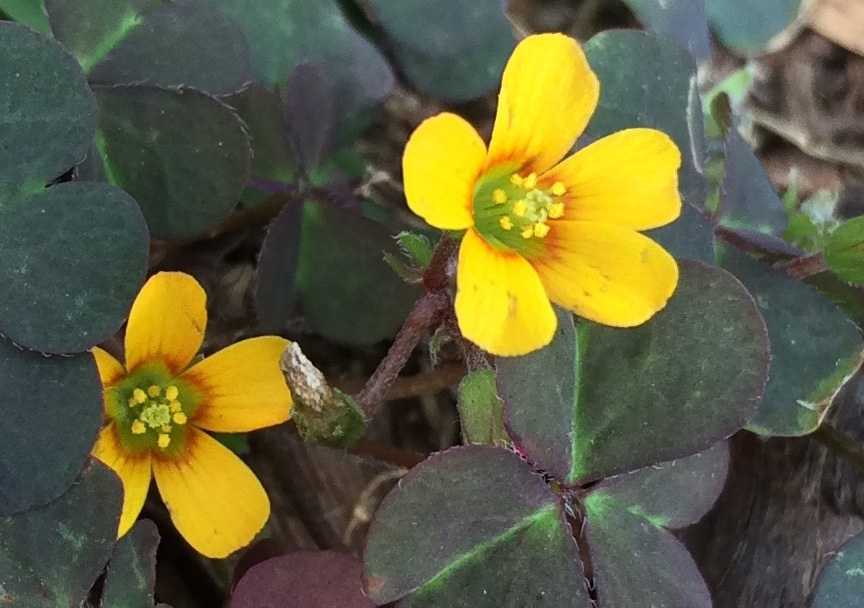oxalis: (54, 55, 781, 608)
